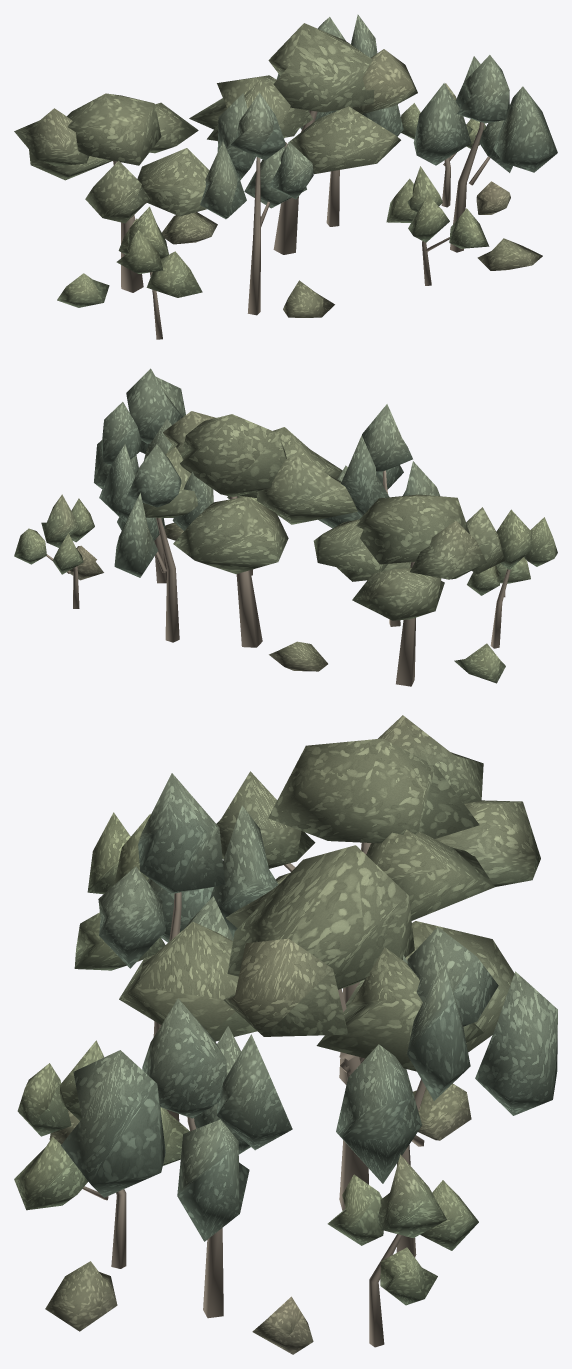
File: marches-copse-regional.glb
3 views of the same model, one above another, from view 1: azimuth 30°, elevation 25°; view 2: azimuth 150°, elevation 25°; view 3: azimuth 270°, elevation 25° (orthographic). The views are drawn at different scales.
Visible parts, largest first — view 1: Regional | foliage clumps, Regional | forked greywood; view 2: Regional | foliage clumps, Regional | forked greywood; view 3: Regional | foliage clumps, Regional | forked greywood.
Boxes of the visible parts, x1,y1,x2,y2 form: Regional | foliage clumps: (14,14,557,317); Regional | forked greywood: (113,110,490,339); Regional | foliage clumps: (14,368,557,683); Regional | forked greywood: (46,470,510,686); Regional | foliage clumps: (14,715,557,1354); Regional | forked greywood: (82,842,425,1347).
Bounding box in the file's own units: 20.39 × 9.58 × 12.48.
Materials: 2 (1 with a texture image).
